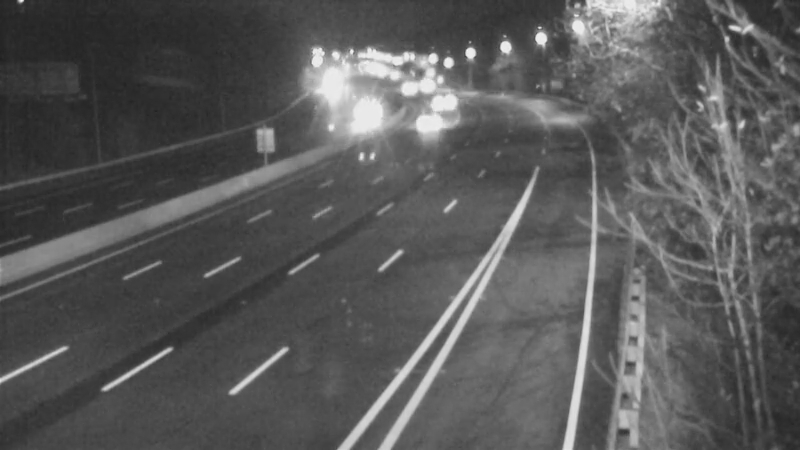vehicle: (398, 60, 448, 110), (383, 63, 433, 113), (422, 77, 472, 127), (404, 103, 454, 153), (337, 95, 387, 145)
